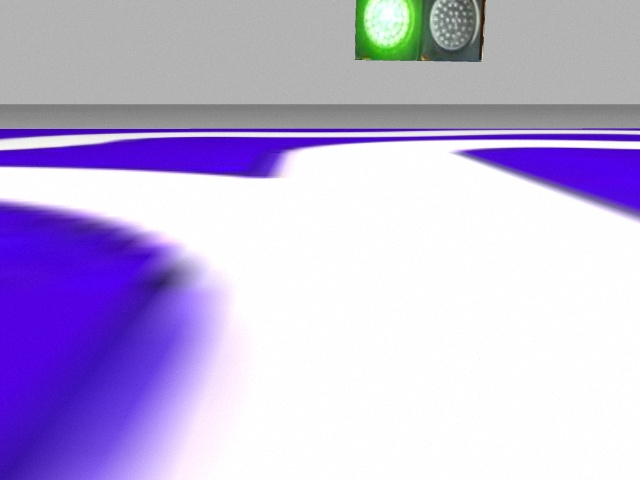green: (356, 1, 422, 62)
